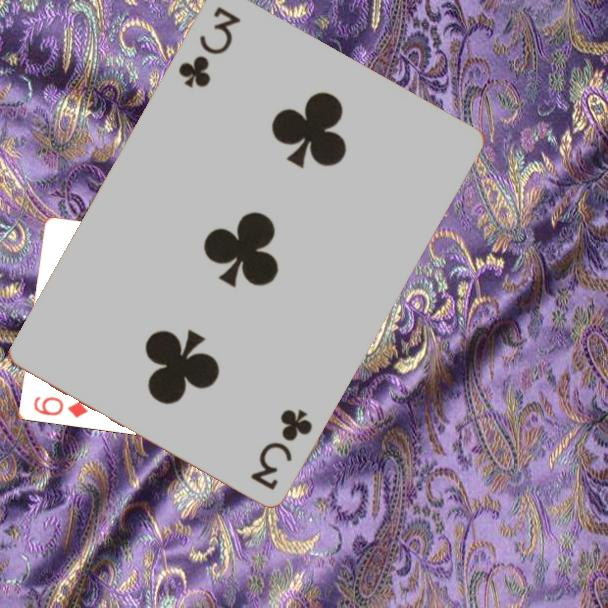c03: (174, 2, 244, 91), (246, 404, 316, 492)
d06: (30, 393, 91, 421)
